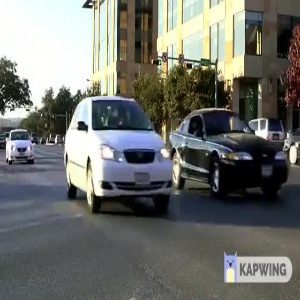car: (165, 101, 292, 204), (61, 89, 169, 209), (1, 128, 39, 165)
